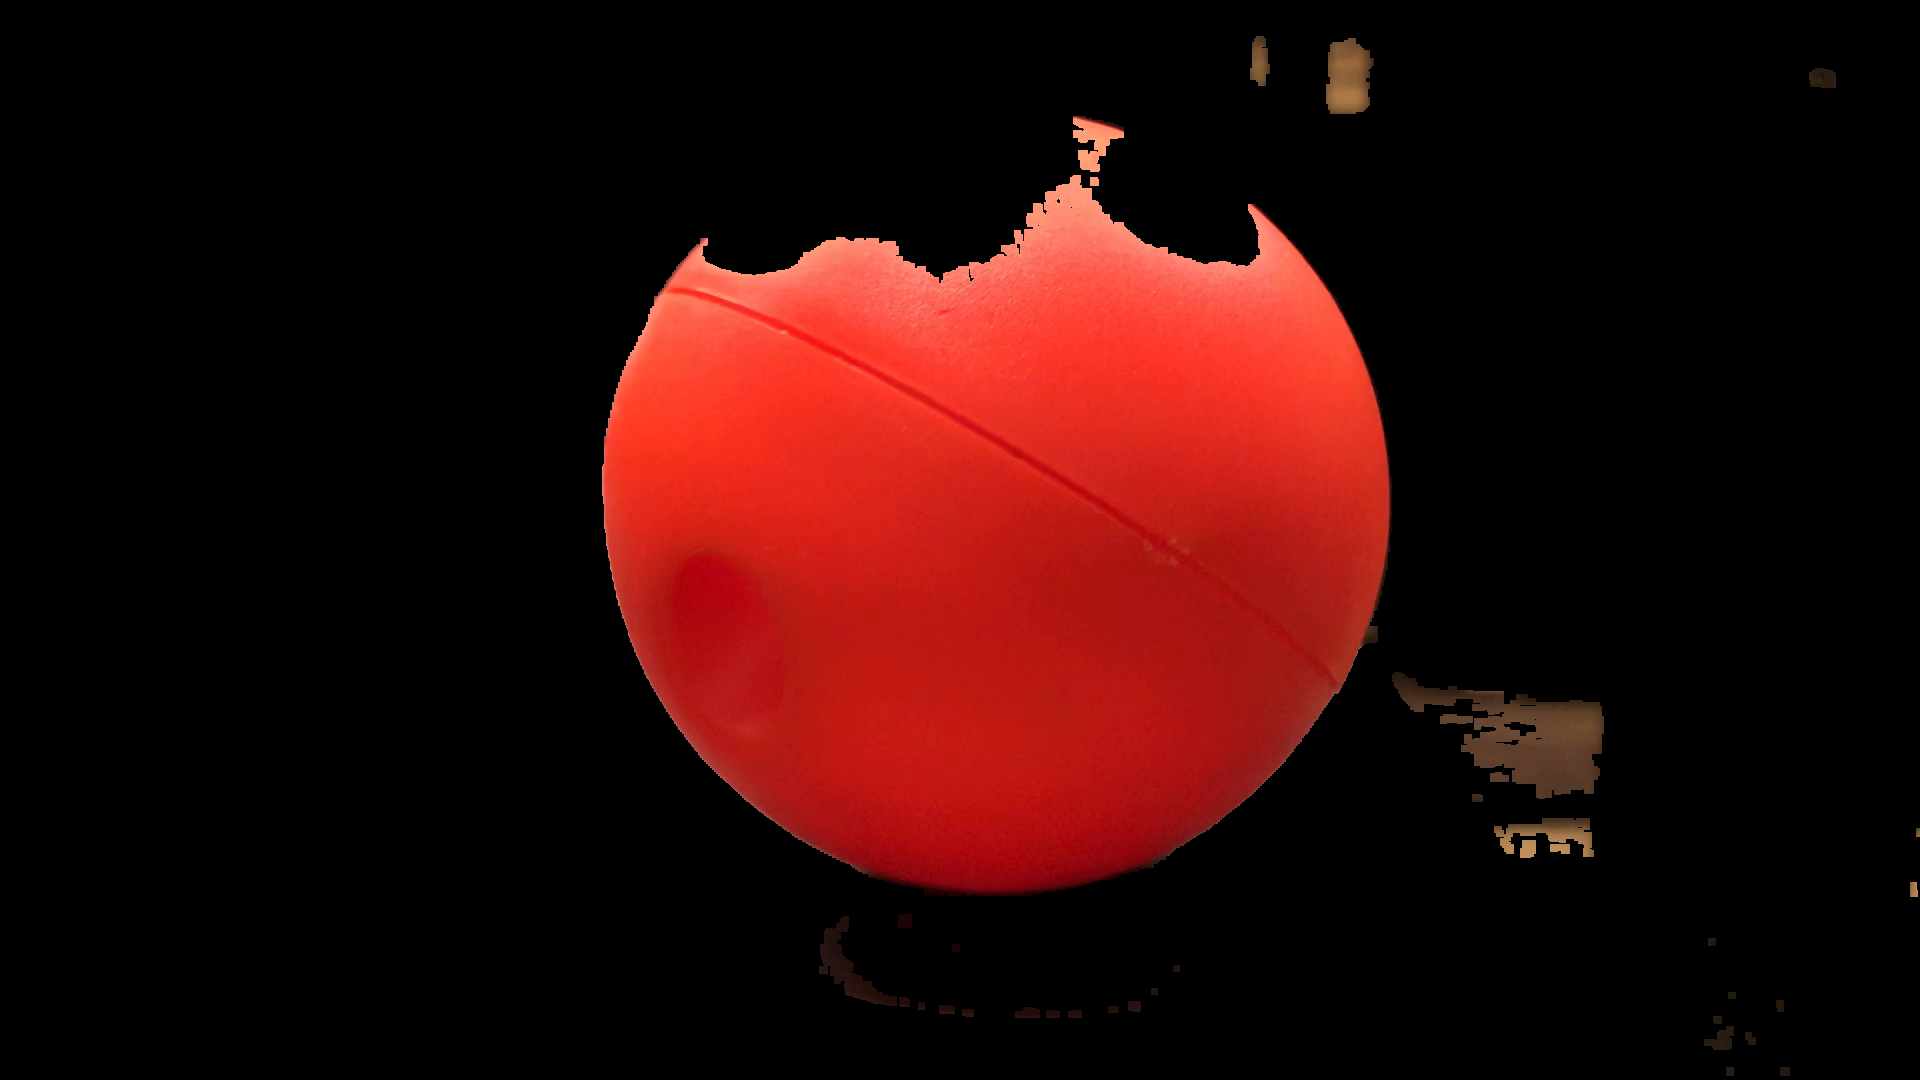Ball: (607, 103, 1400, 891)
